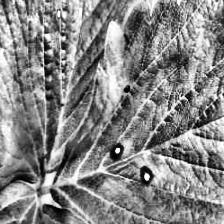Leaf Spot: (47, 0, 224, 224), (0, 0, 154, 193)
